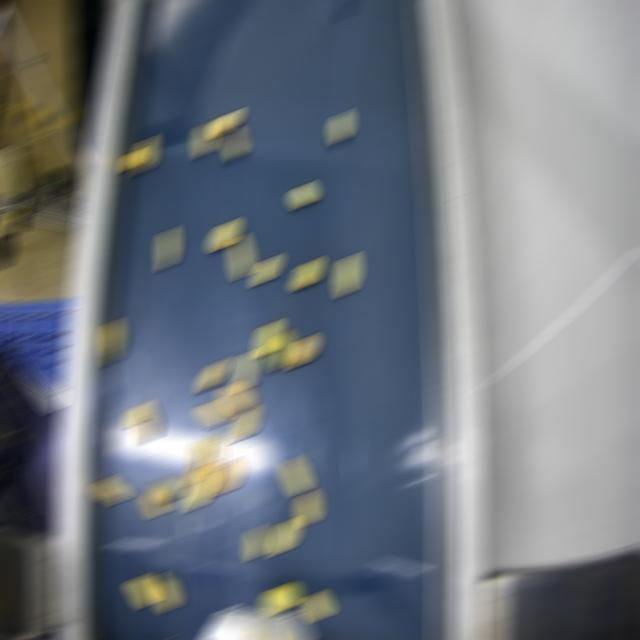Baby Potato: (184, 464, 217, 509), (184, 439, 209, 486), (126, 401, 155, 440), (262, 583, 299, 613), (270, 519, 297, 554), (220, 383, 251, 413), (152, 574, 177, 611), (282, 457, 307, 494), (289, 335, 316, 368), (94, 476, 127, 503), (214, 459, 239, 494), (128, 576, 157, 606), (336, 255, 357, 296), (269, 331, 292, 368), (292, 258, 319, 289), (234, 351, 255, 390), (231, 235, 250, 278), (103, 320, 122, 363), (257, 320, 280, 355), (210, 220, 237, 249), (232, 408, 257, 439), (198, 360, 223, 390), (202, 433, 221, 472), (297, 491, 318, 526), (210, 111, 239, 136), (197, 400, 226, 425), (254, 255, 279, 284), (135, 136, 154, 173), (152, 476, 179, 501), (159, 229, 176, 268), (306, 592, 329, 619), (144, 488, 167, 515), (196, 120, 213, 156), (246, 527, 265, 559), (332, 112, 349, 142), (291, 184, 314, 206), (228, 128, 243, 159), (123, 150, 142, 169)
